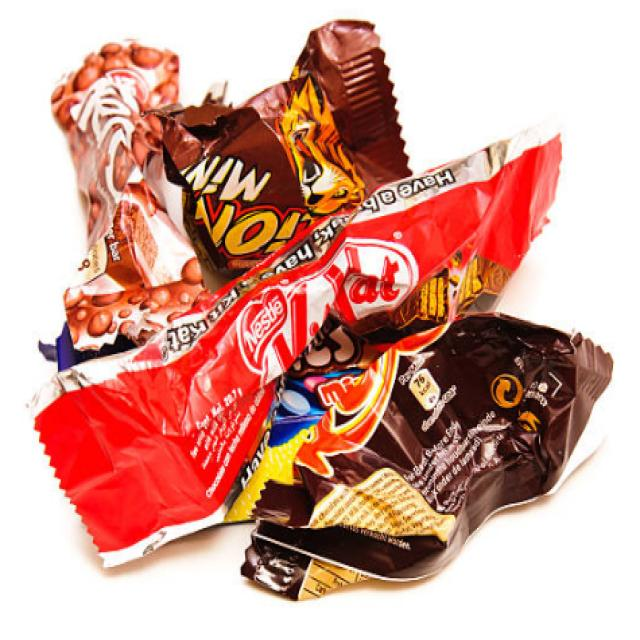KemasanPlastik: (33, 138, 563, 568), (248, 307, 614, 597)
